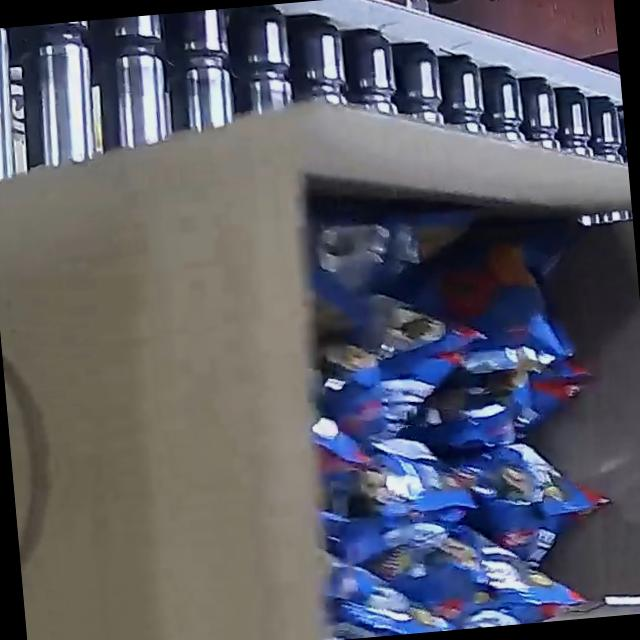paprika: (289, 202, 627, 640)
